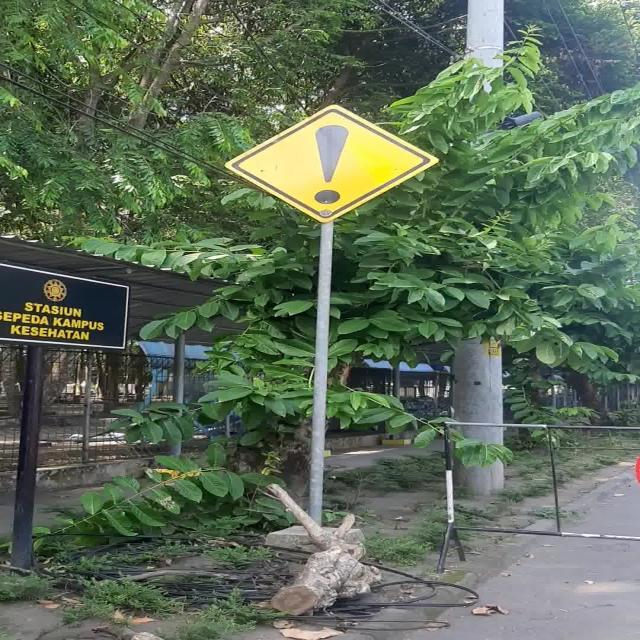Hati-Hati: (225, 105, 440, 223)
